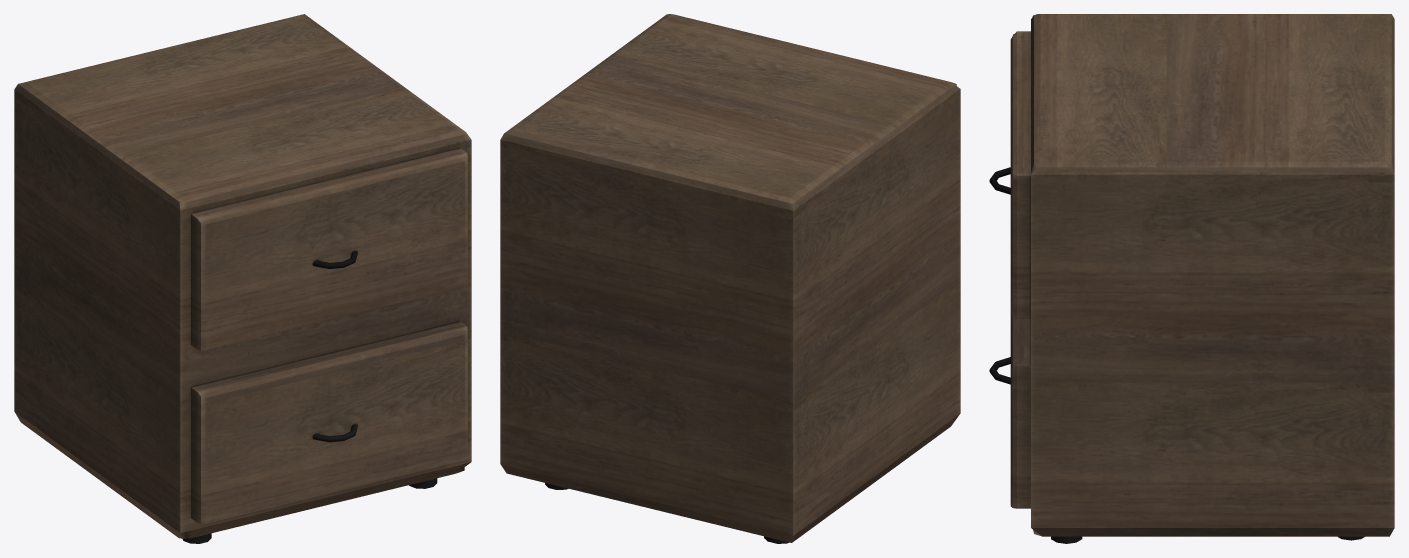
Rendered from nightstand 1.glb.
3 renders of one model, left to right at view 1: azimuth 30°, elevation 25°; view 2: azimuth 150°, elevation 25°; view 3: azimuth 270°, elevation 25°, orthographic. The views are drawn at different scales.
Parts seen in each view (by area): view 1: Object_2; view 2: Object_2; view 3: Object_2.
Part boxes in pixels (left/top/right/bottom): Object_2: left=14, top=14, right=471, bottom=543; Object_2: left=500, top=14, right=960, bottom=543; Object_2: left=989, top=14, right=1394, bottom=543.
Size of the model in its own units: 0.6929 by 0.8073 by 0.7626.
Materials: 1 (1 with a texture image).
